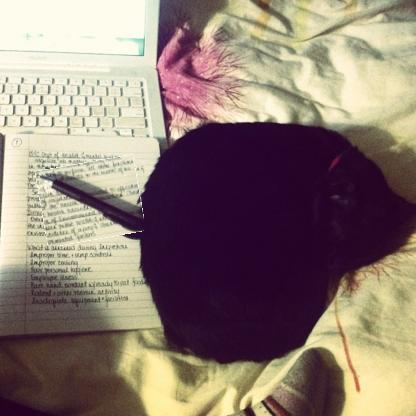Pen: (38, 158, 143, 243)
